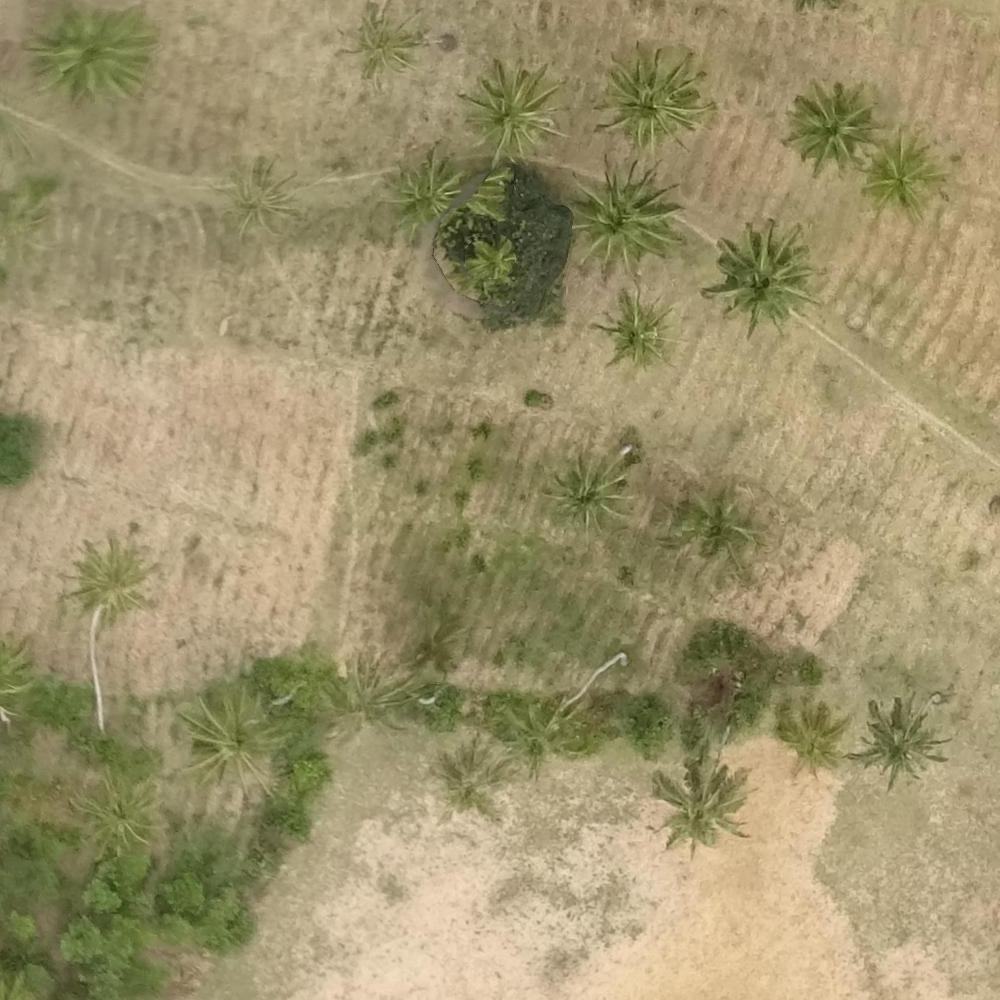Palm: (566, 160, 681, 272), (30, 8, 158, 106), (708, 224, 815, 326), (174, 691, 280, 792), (464, 62, 570, 161), (601, 47, 705, 147), (668, 483, 765, 580), (643, 760, 747, 848), (546, 443, 641, 535), (783, 80, 872, 169), (71, 771, 162, 857), (860, 698, 949, 782), (340, 9, 435, 81), (74, 538, 154, 621), (380, 149, 461, 230), (215, 158, 300, 234), (862, 131, 939, 212), (496, 699, 575, 776), (595, 290, 673, 364), (772, 697, 846, 775)
